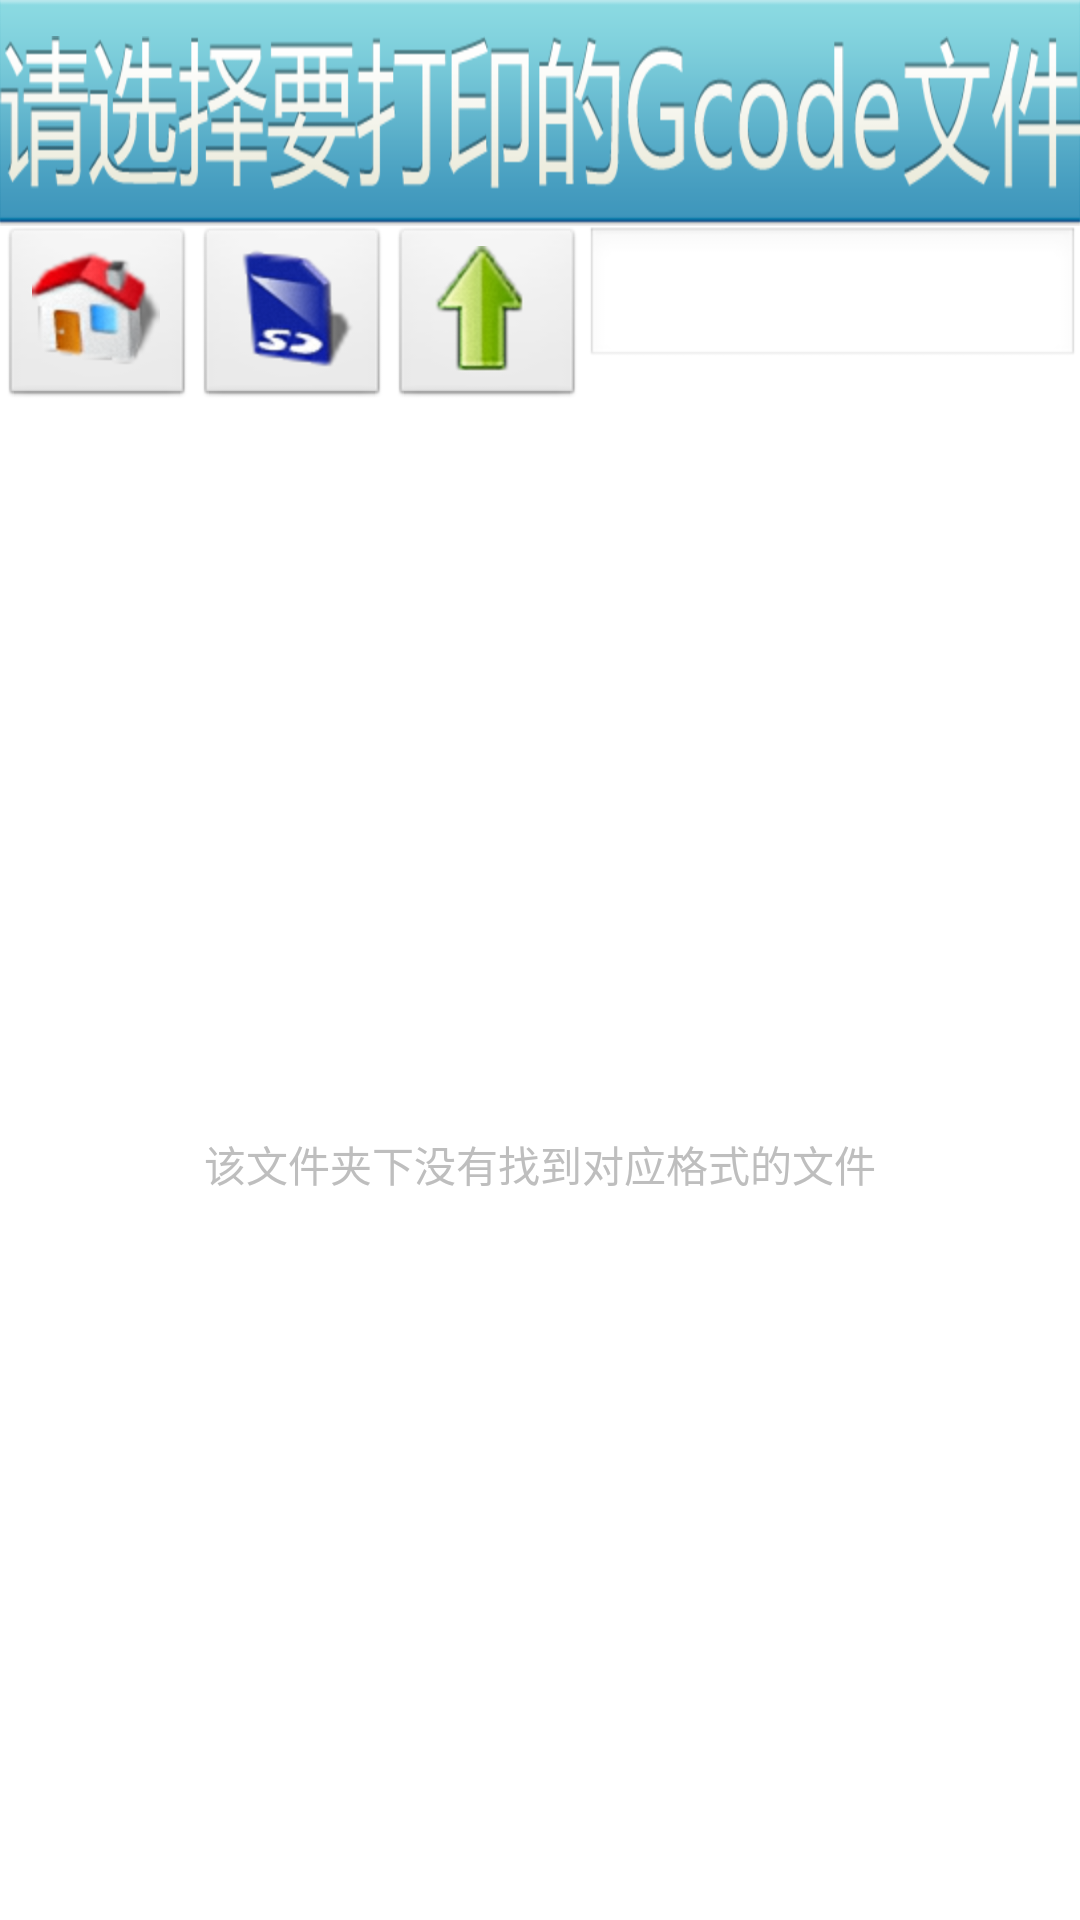

Point at icon controls on the screen. Image size 1080x1920, points as [x,y].
home: [97,312]
sdcard: [292,312]
uparrow: [487,312]
